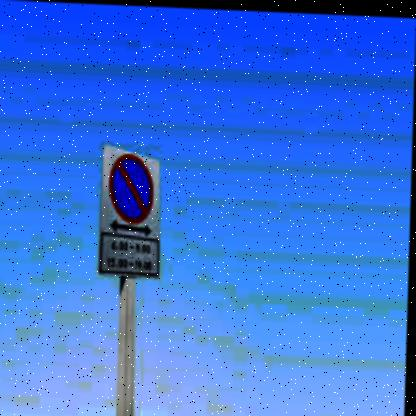No parking: (109, 151, 161, 223)
